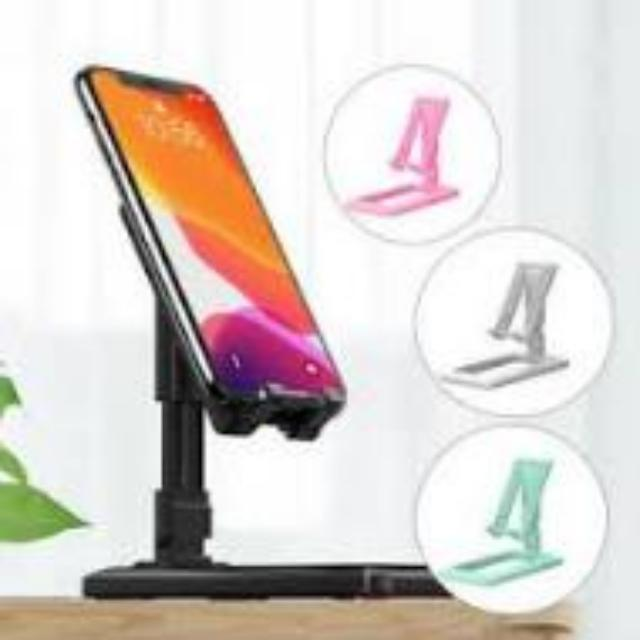Phone: (71, 61, 347, 411)
